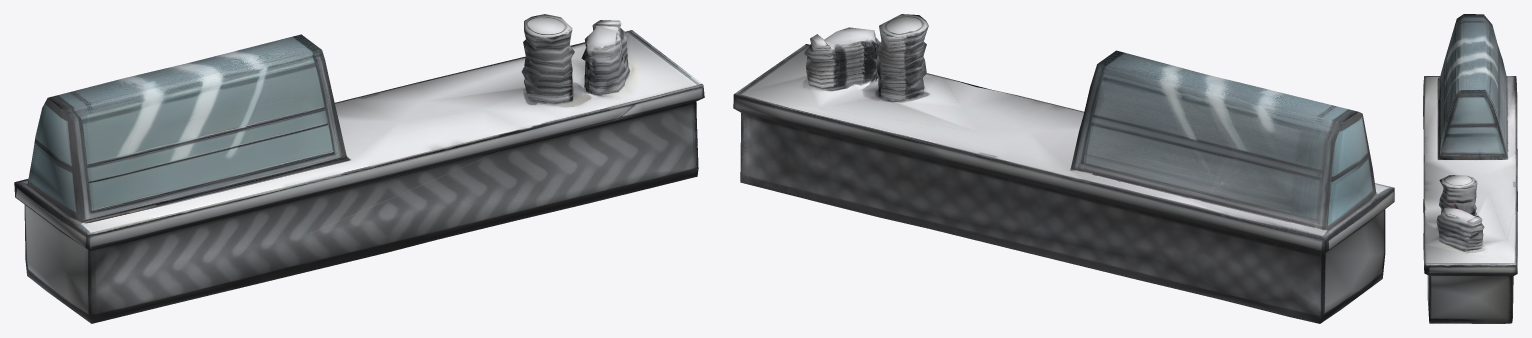
File: Kitchen_1.fbx
3 views of the same model, side by side, from view 1: azimuth 30°, elevation 25°; view 2: azimuth 150°, elevation 25°; view 3: azimuth 270°, elevation 25° (orthographic). The views are drawn at different scales.
Parts seen in each view (by area): view 1: Mesh_0; view 2: Mesh_0; view 3: Mesh_0.
Part boxes in pixels (x1,y1,x2,y2): Mesh_0: (14, 14, 704, 323); Mesh_0: (733, 14, 1394, 323); Mesh_0: (1423, 14, 1517, 323).
Size of the model in its own units: 200 by 61.92 by 42.17.
1 material, 1 textured.
